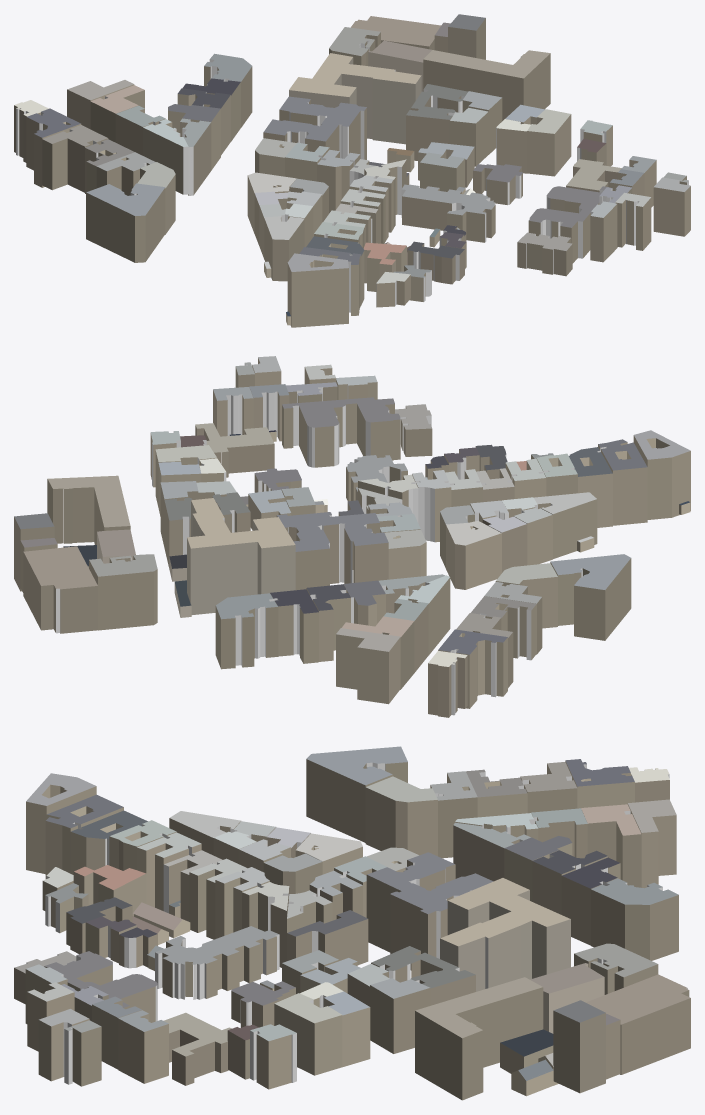
The picture shows the model from 3 angles, top to bottom: view 1: azimuth 30°, elevation 25°; view 2: azimuth 150°, elevation 25°; view 3: azimuth 270°, elevation 25°; orthographic projection. The views are drawn at different scales.
Parts seen in each view (by area): view 1: tuile; view 2: tuile; view 3: tuile.
Part boxes in pixels (x1,y1,x2,y2): tuile: (14,14,690,327); tuile: (14,356,690,717); tuile: (14,746,690,1100).
Size of the model in its own units: 274 by 36.23 by 267.
